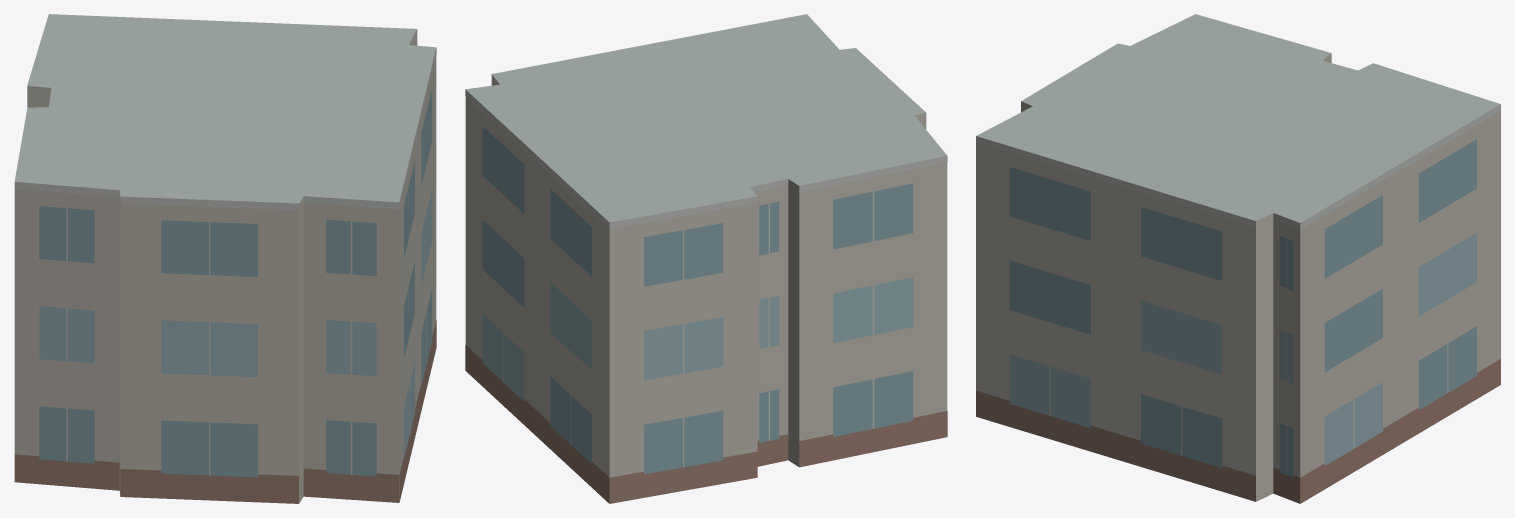
The model's file is survey-upis-32744803.glb.
The picture shows the model from 3 angles, left to right: view 1: azimuth 30°, elevation 25°; view 2: azimuth 150°, elevation 25°; view 3: azimuth 270°, elevation 25°; orthographic projection. The views are drawn at different scales.
Visible parts, largest first — view 1: survey-upis-32744803.tmp; view 2: survey-upis-32744803.tmp; view 3: survey-upis-32744803.tmp.
Boxes of the visible parts, x1,y1,x2,y2 form: survey-upis-32744803.tmp: (14,14,436,503); survey-upis-32744803.tmp: (465,14,947,503); survey-upis-32744803.tmp: (976,14,1500,503).
Size of the model in its own units: 16.3 by 10.2 by 17.29.
